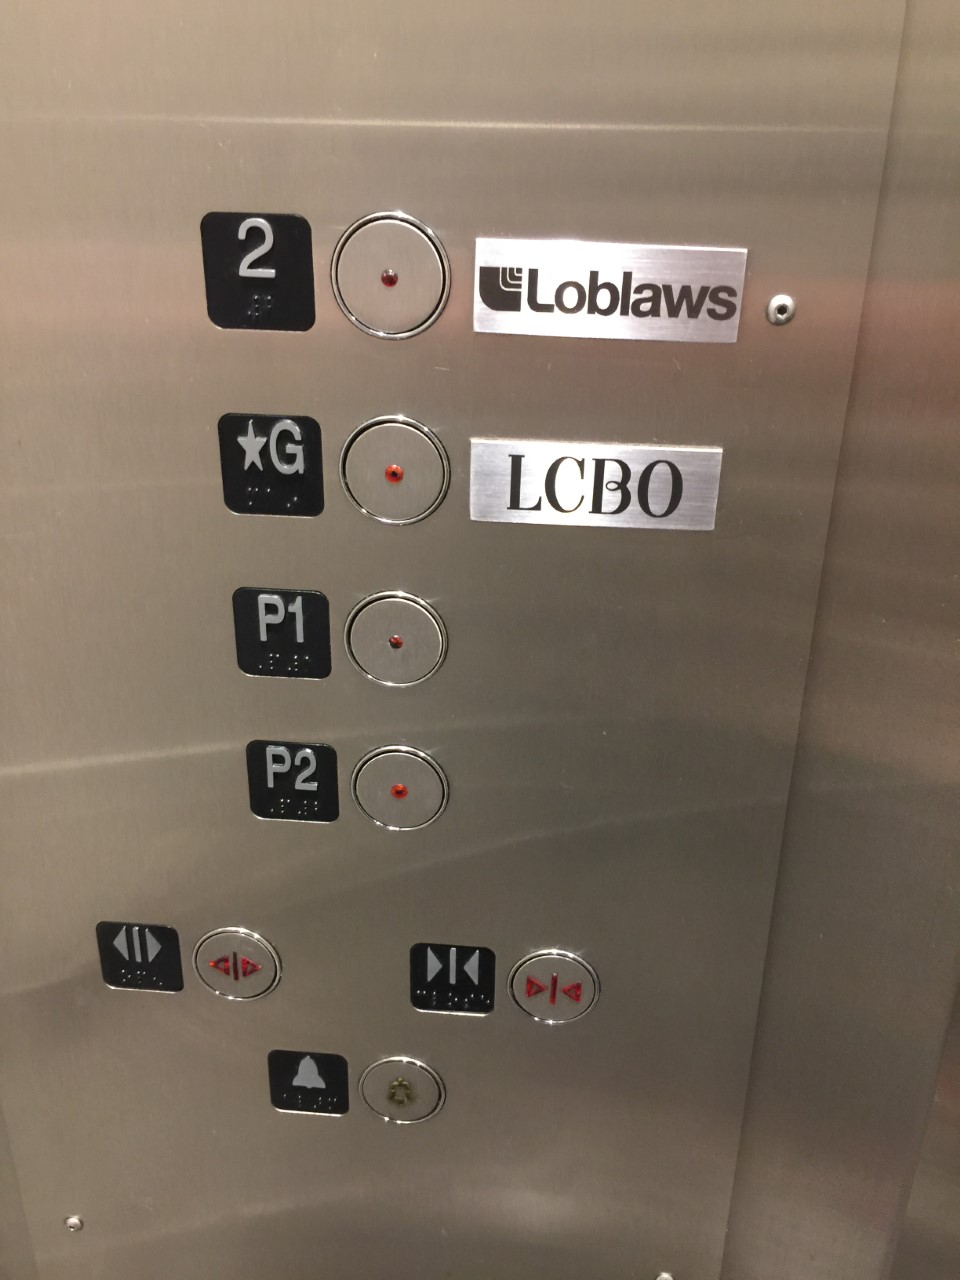button: (198, 203, 455, 343), (211, 406, 457, 531), (225, 579, 452, 694), (238, 734, 452, 836), (405, 937, 605, 1031), (91, 916, 288, 1009), (263, 1045, 449, 1129)
